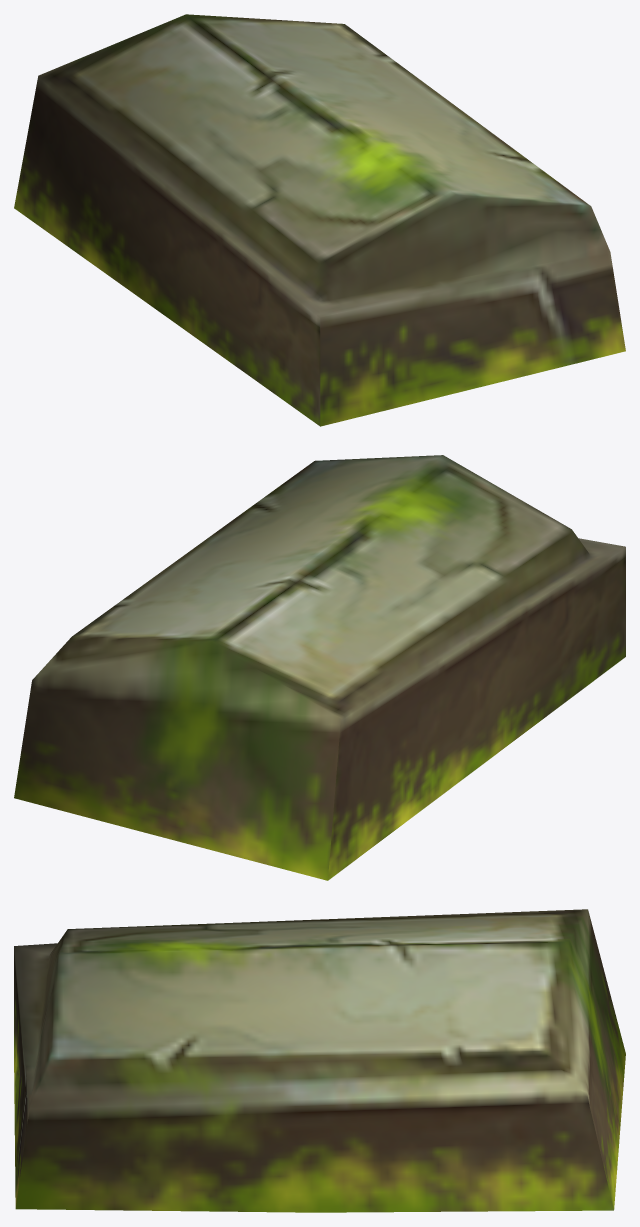
Rendered from mubei.FBX.
The picture shows the model from 3 angles, top to bottom: view 1: azimuth 30°, elevation 25°; view 2: azimuth 150°, elevation 25°; view 3: azimuth 270°, elevation 25°; orthographic projection.
Parts seen in each view (by area): view 1: mubei; view 2: mubei; view 3: mubei.
Part boxes in pixels (bbox=[...]): mubei: bbox=[14, 14, 625, 426]; mubei: bbox=[14, 455, 625, 880]; mubei: bbox=[14, 909, 625, 1212].
Size of the model in its own units: 17.26 by 9.27 by 28.08.
